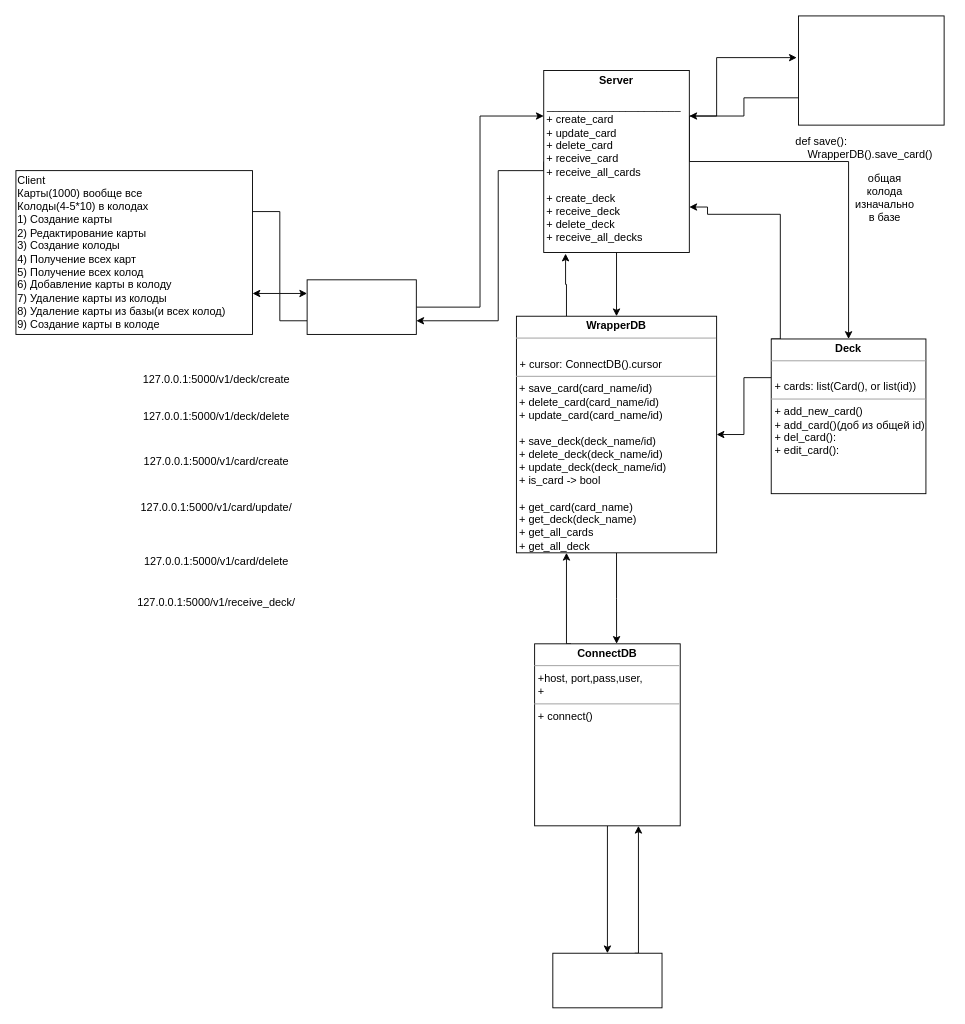
This 965x1024 diagram has some shape labels left out. The centre of each missing label's shape, as x and y in pixels:
Card + word: str + translate: str + save: the point at 871,70
Data Base: the point at 607,980
Server: the point at 361,306
